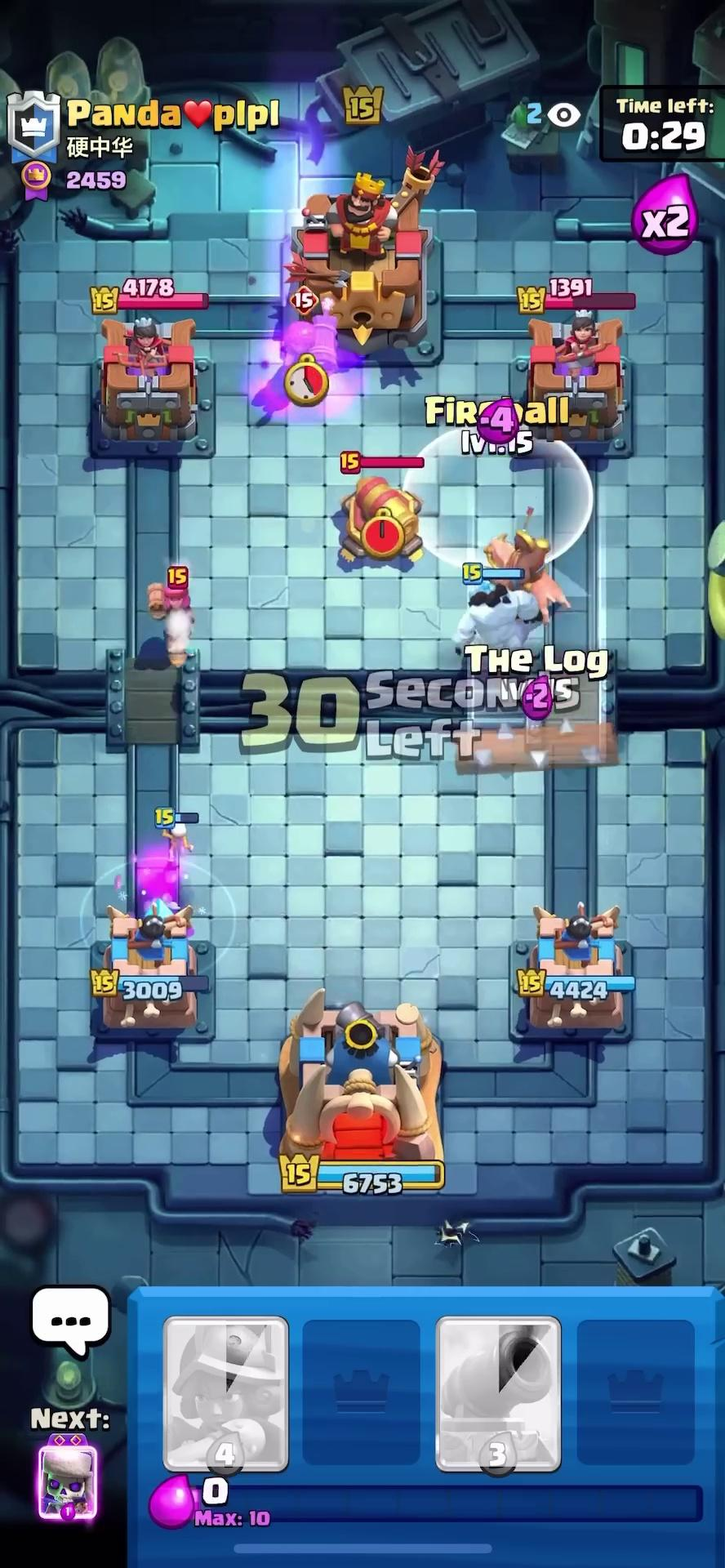hog_rider: (469, 527, 582, 619)
ice_golem: (445, 570, 547, 659)
skeletons: (149, 808, 204, 855)
